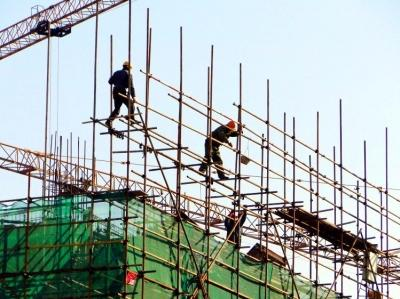helmet: (227, 120, 238, 131), (123, 61, 133, 71)
